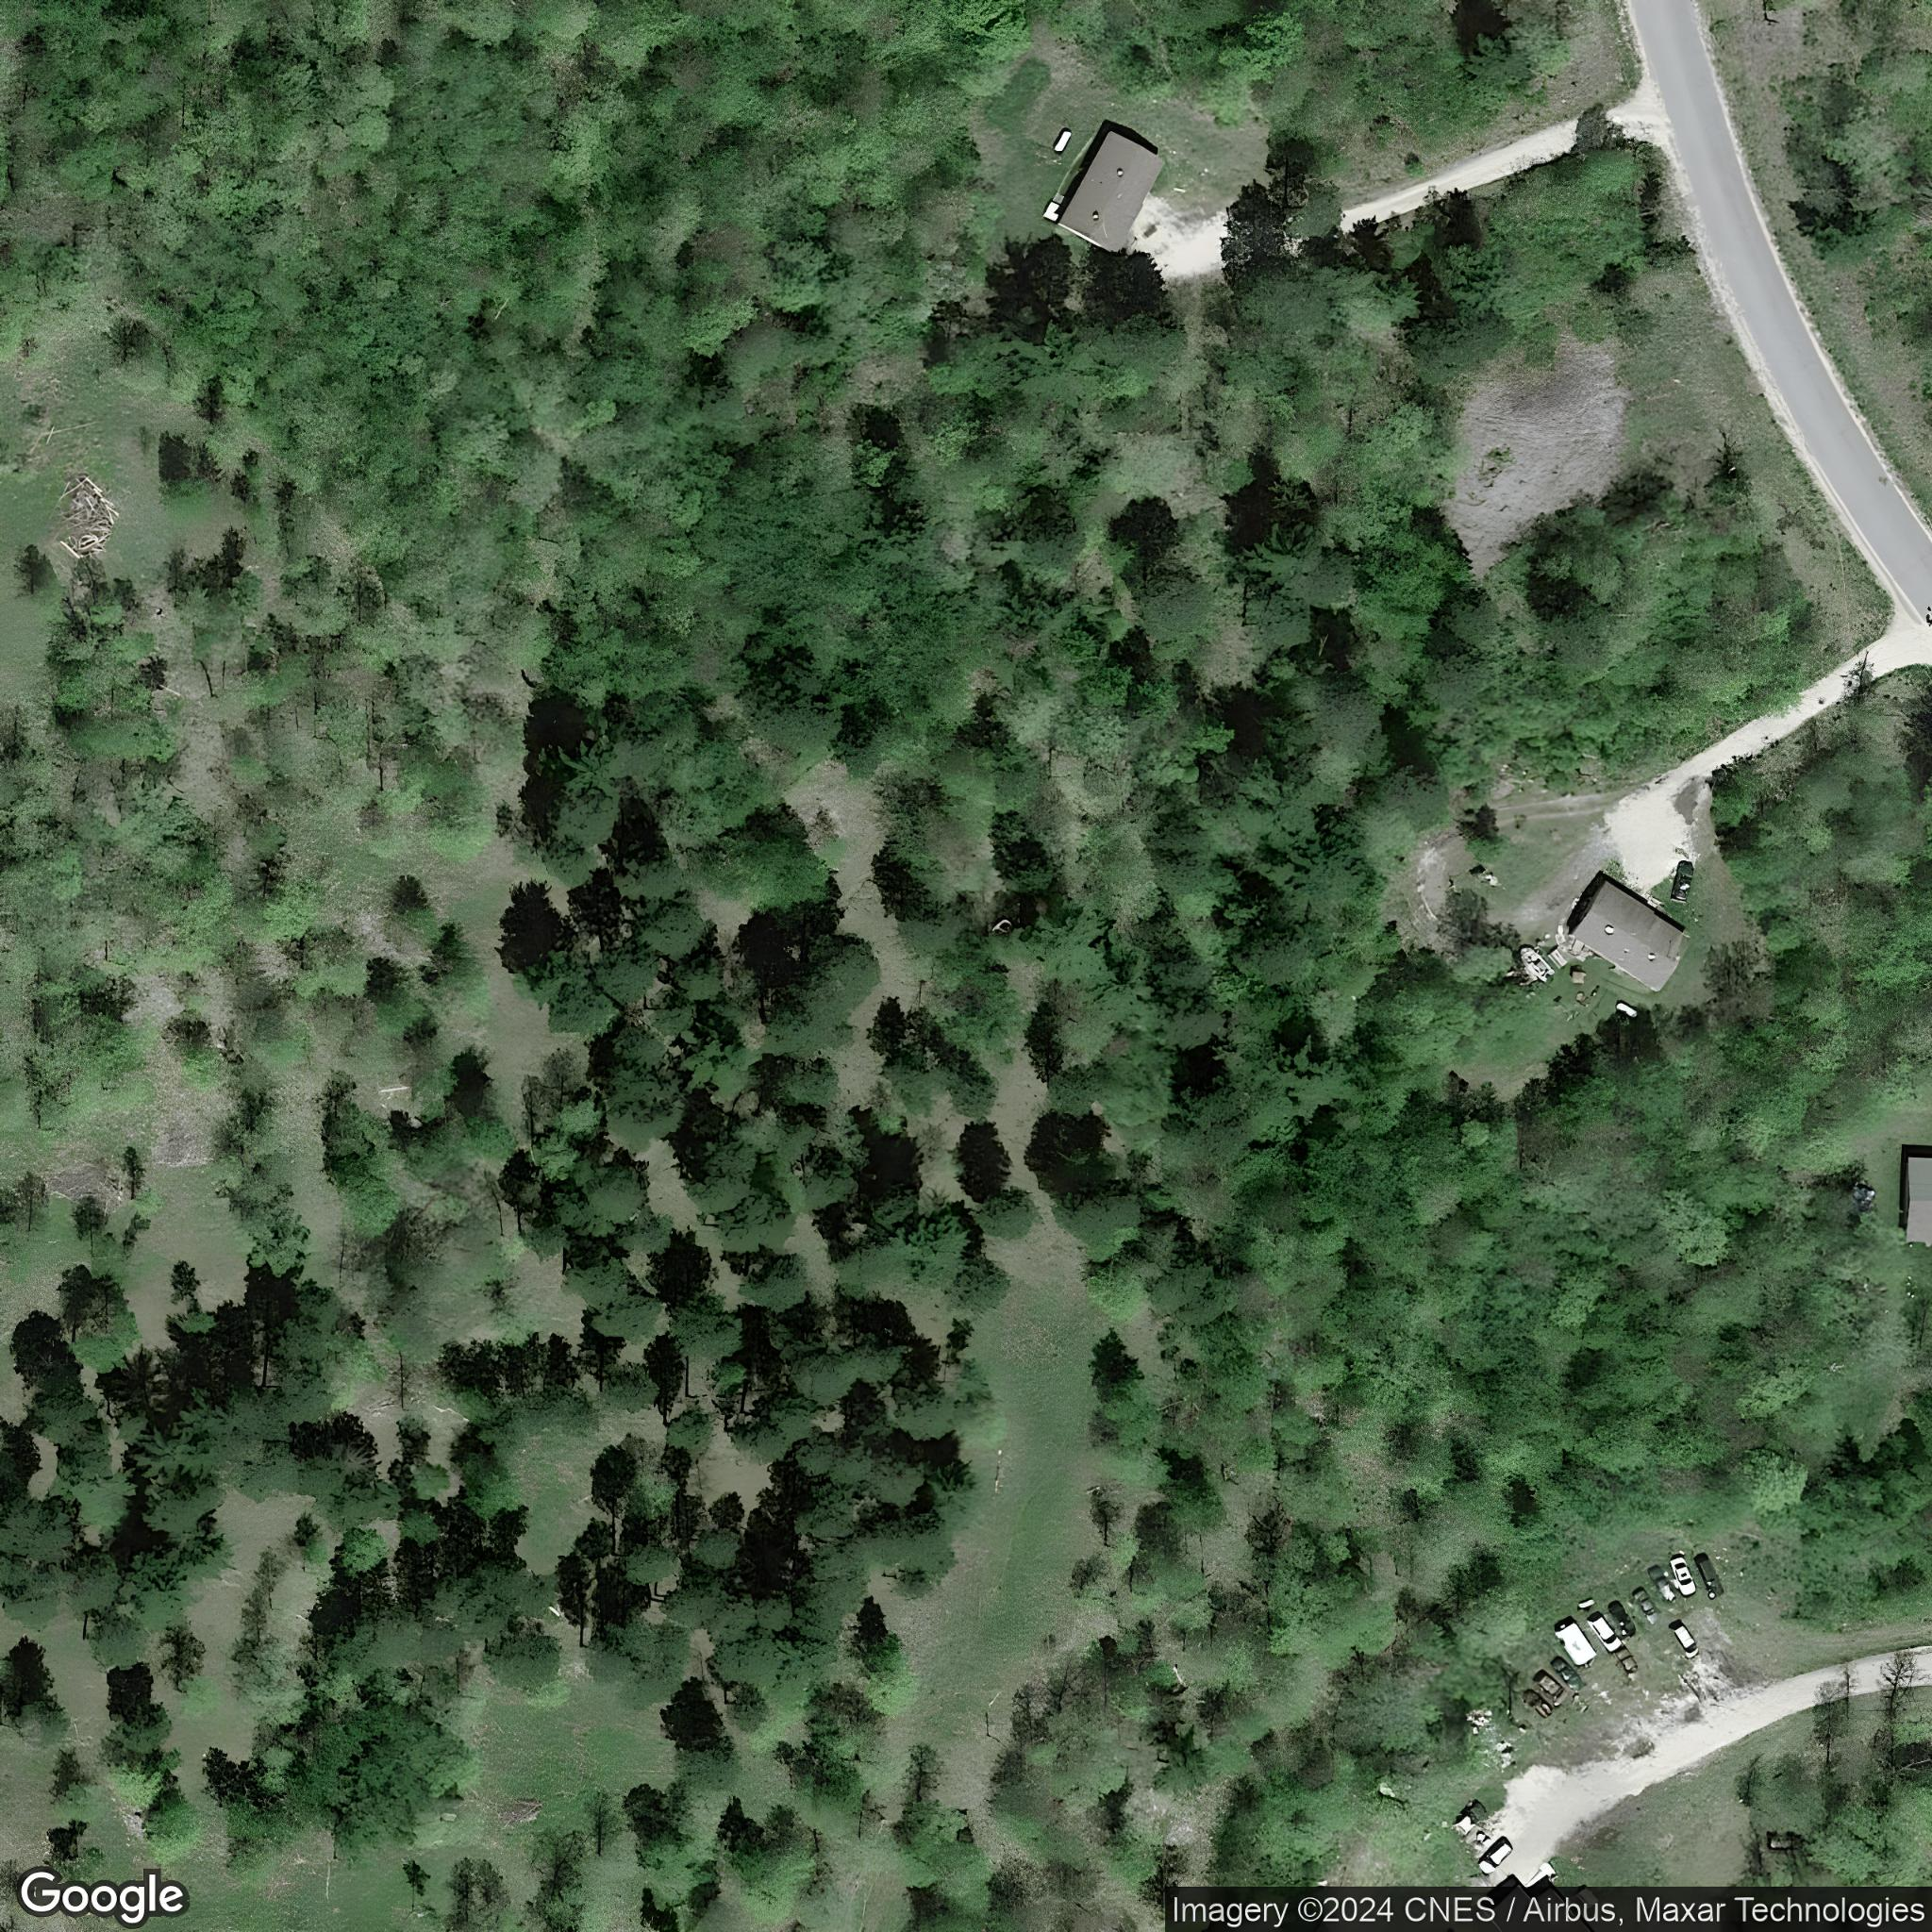House: (1566, 874, 1695, 998), (1056, 127, 1168, 257), (1905, 1155, 1932, 1244)
Propane: (1049, 124, 1077, 157), (1612, 998, 1644, 1023), (1573, 1596, 1599, 1615)
Trailer: (1553, 1615, 1599, 1667)
